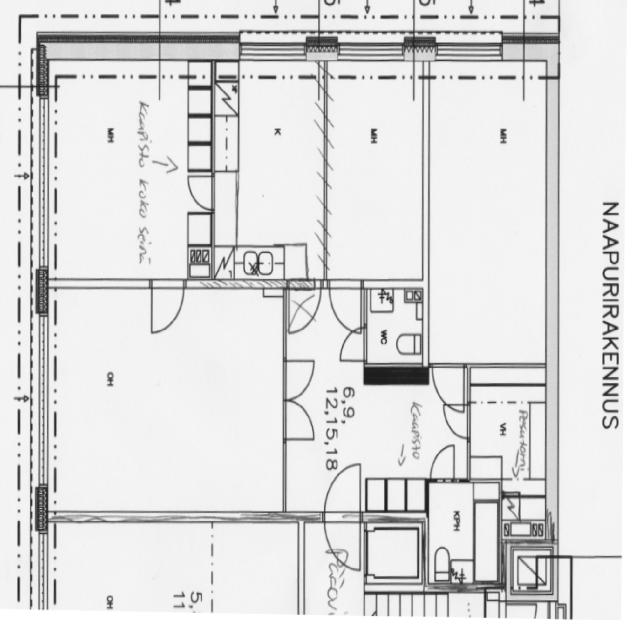door: (319, 458, 364, 575), (281, 348, 319, 451), (143, 271, 188, 341), (324, 273, 366, 335), (281, 282, 322, 345), (428, 359, 468, 417), (182, 167, 218, 213), (428, 440, 458, 484), (338, 325, 369, 366), (440, 403, 472, 439)
window: (430, 30, 508, 60), (334, 36, 406, 62), (234, 34, 306, 59), (114, 69, 141, 81)
zone: (52, 279, 288, 523), (424, 64, 551, 371), (50, 64, 216, 280), (211, 59, 325, 286), (322, 62, 426, 282), (466, 380, 548, 496), (424, 480, 500, 589), (364, 281, 426, 377), (364, 516, 424, 596), (500, 493, 551, 541)
